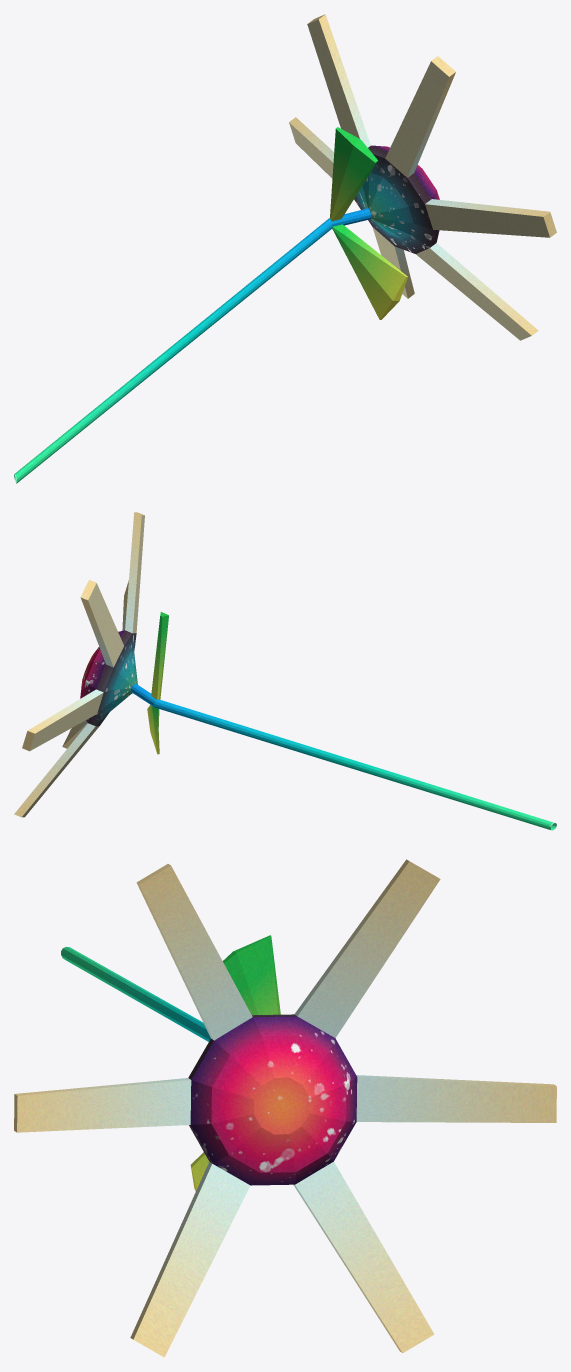
Rendered from ptb.fbx.
The picture shows the model from 3 angles, top to bottom: view 1: azimuth 30°, elevation 25°; view 2: azimuth 150°, elevation 25°; view 3: azimuth 270°, elevation 25°; orthographic projection. The views are drawn at different scales.
Parts seen in each view (by area): view 1: flower; view 2: flower; view 3: flower.
Part boxes in pixels (bbox=[...]): flower: bbox=[14, 14, 556, 483]; flower: bbox=[14, 512, 556, 830]; flower: bbox=[14, 859, 556, 1357].
Bounding box in the file's own units: 684 × 374 × 408.
Materials: 1 (1 with a texture image).
